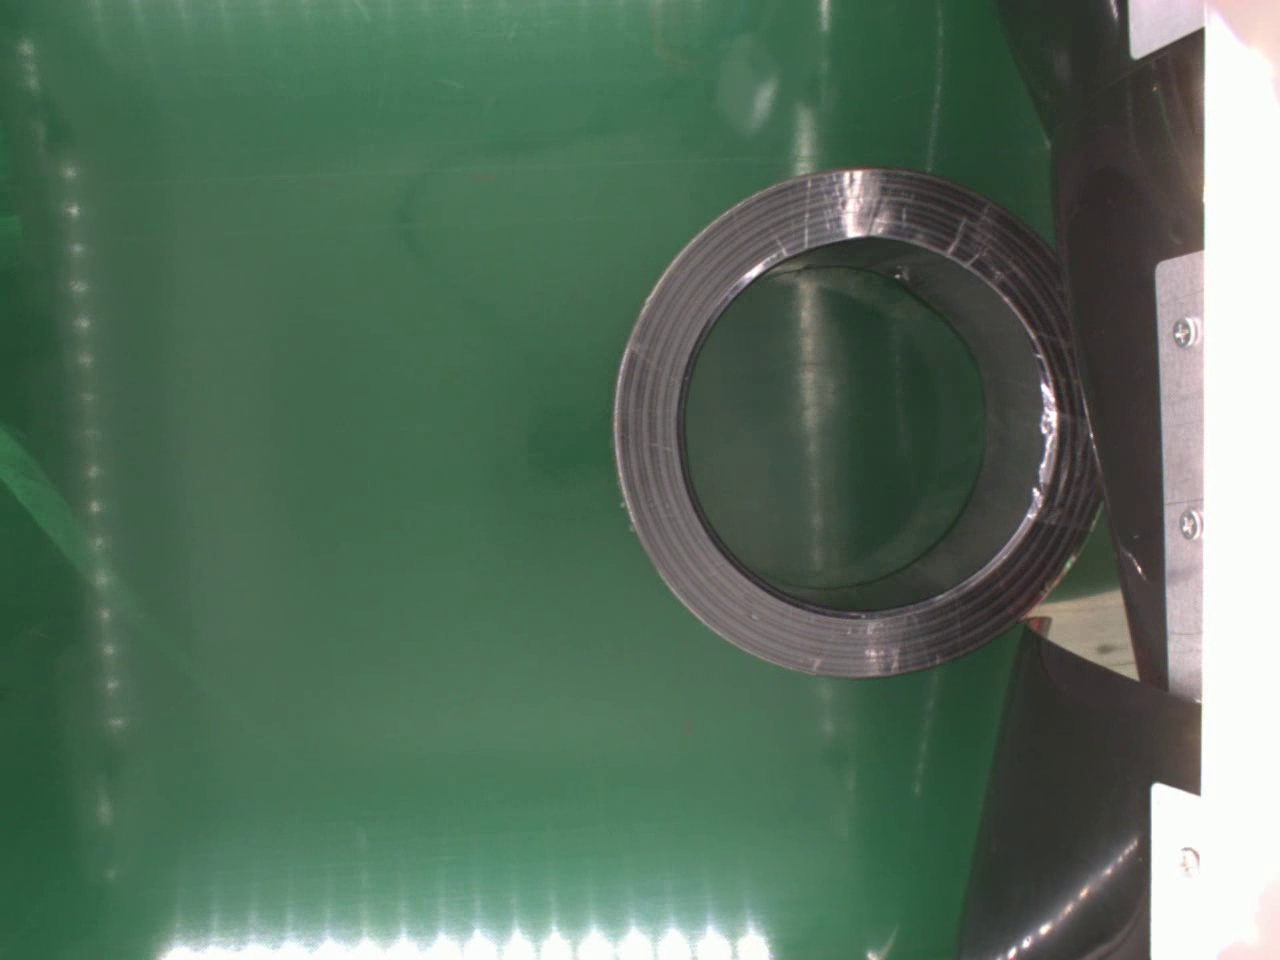black: (610, 166, 1102, 678)
